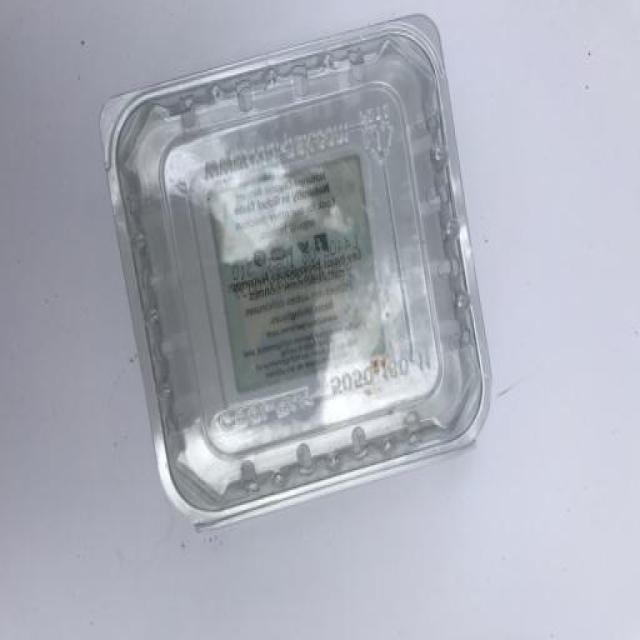Plastic: (99, 13, 495, 540)
